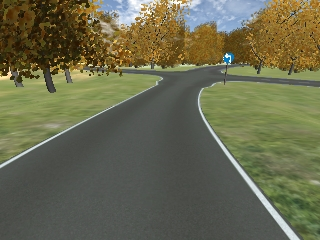left: (221, 53, 236, 64)
